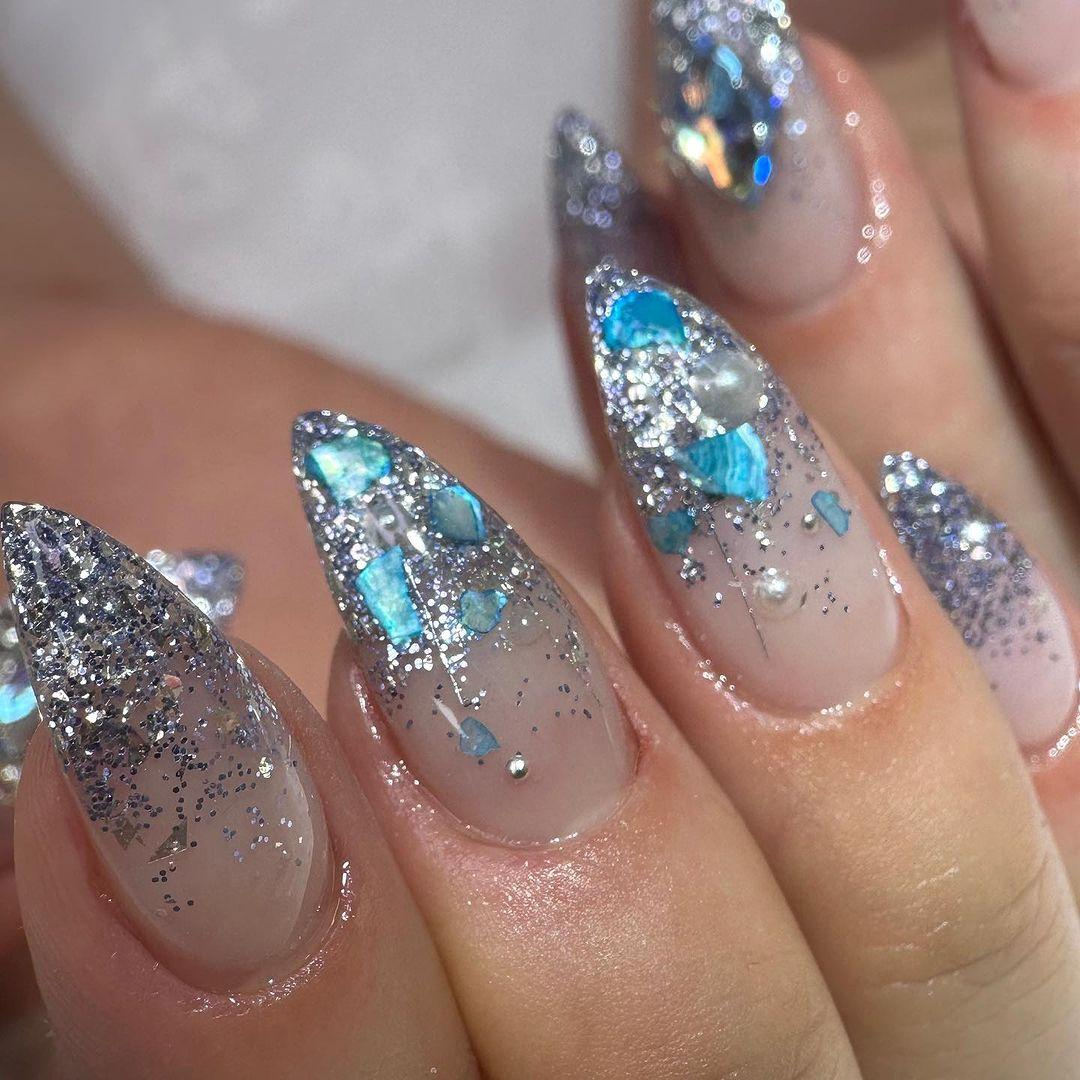nail: (0, 497, 337, 996), (289, 406, 643, 850), (580, 258, 901, 714), (650, 0, 861, 305), (881, 454, 1079, 748)
